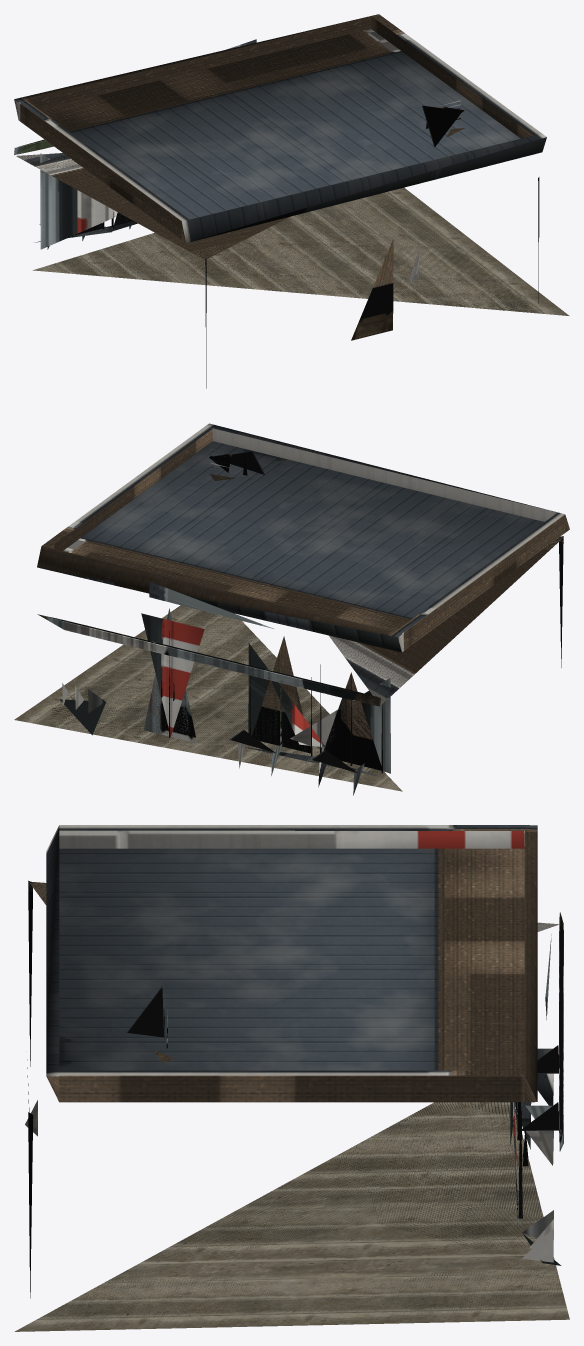
The model's file is shop_003.lod1.obj.
The picture shows the model from 3 angles, top to bottom: view 1: azimuth 30°, elevation 25°; view 2: azimuth 150°, elevation 25°; view 3: azimuth 270°, elevation 25°; orthographic projection. The views are drawn at different scales.
Parts seen in each view (by area): view 1: shop_003; view 2: shop_003; view 3: shop_003.
Part boxes in pixels (<box>): shop_003: <box>14,14,569,388</box>; shop_003: <box>14,423,569,795</box>; shop_003: <box>14,825,569,1331</box>.
Size of the model in its own units: 7.5 by 3.77 by 6.8.
1 material, 1 textured.
